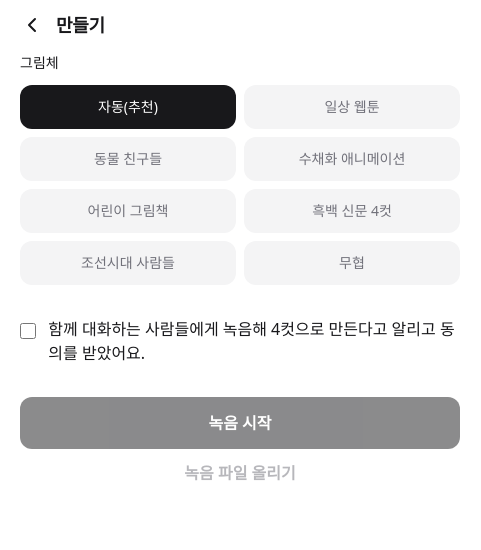
녹음 (FR-001, FR-002) › 마이크를 쓸 수 없거나 녹음을 지원하지 않으면 알린다
Click the checkbox labelled "함께 대화하는 사람들에게 녹음해 4컷으로 만든다고 알리고 동의를 받았어요." at (28, 331), box [20, 321, 36, 341]
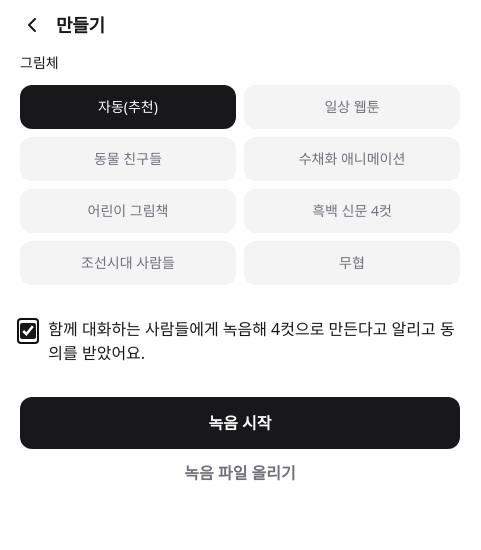
Click the button "녹음 시작" at (240, 423), box [20, 397, 460, 449]
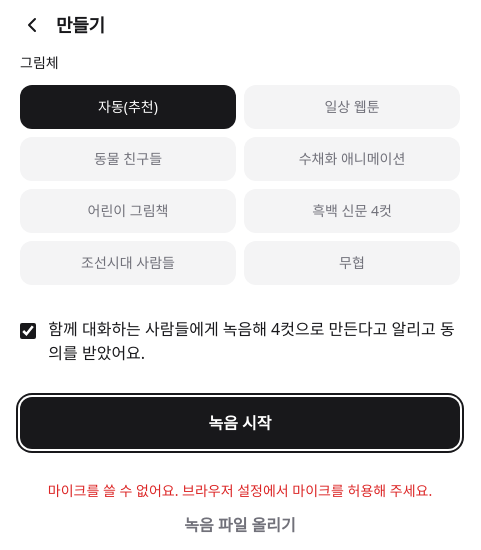
Result: the text "마이크를 쓸 수 없어요. 브라우저 설정에서 마이크를 허용해 주세요." is shown at [48, 481, 432, 501]
Click the button "녹음 시작" at (240, 423), box [20, 397, 460, 449]
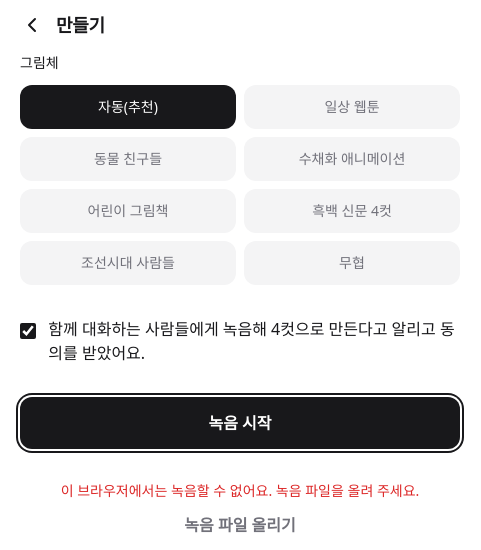
Result: the text "이 브라우저에서는 녹음할 수 없어요. 녹음 파일을 올려 주세요." is shown at [61, 481, 419, 501]
